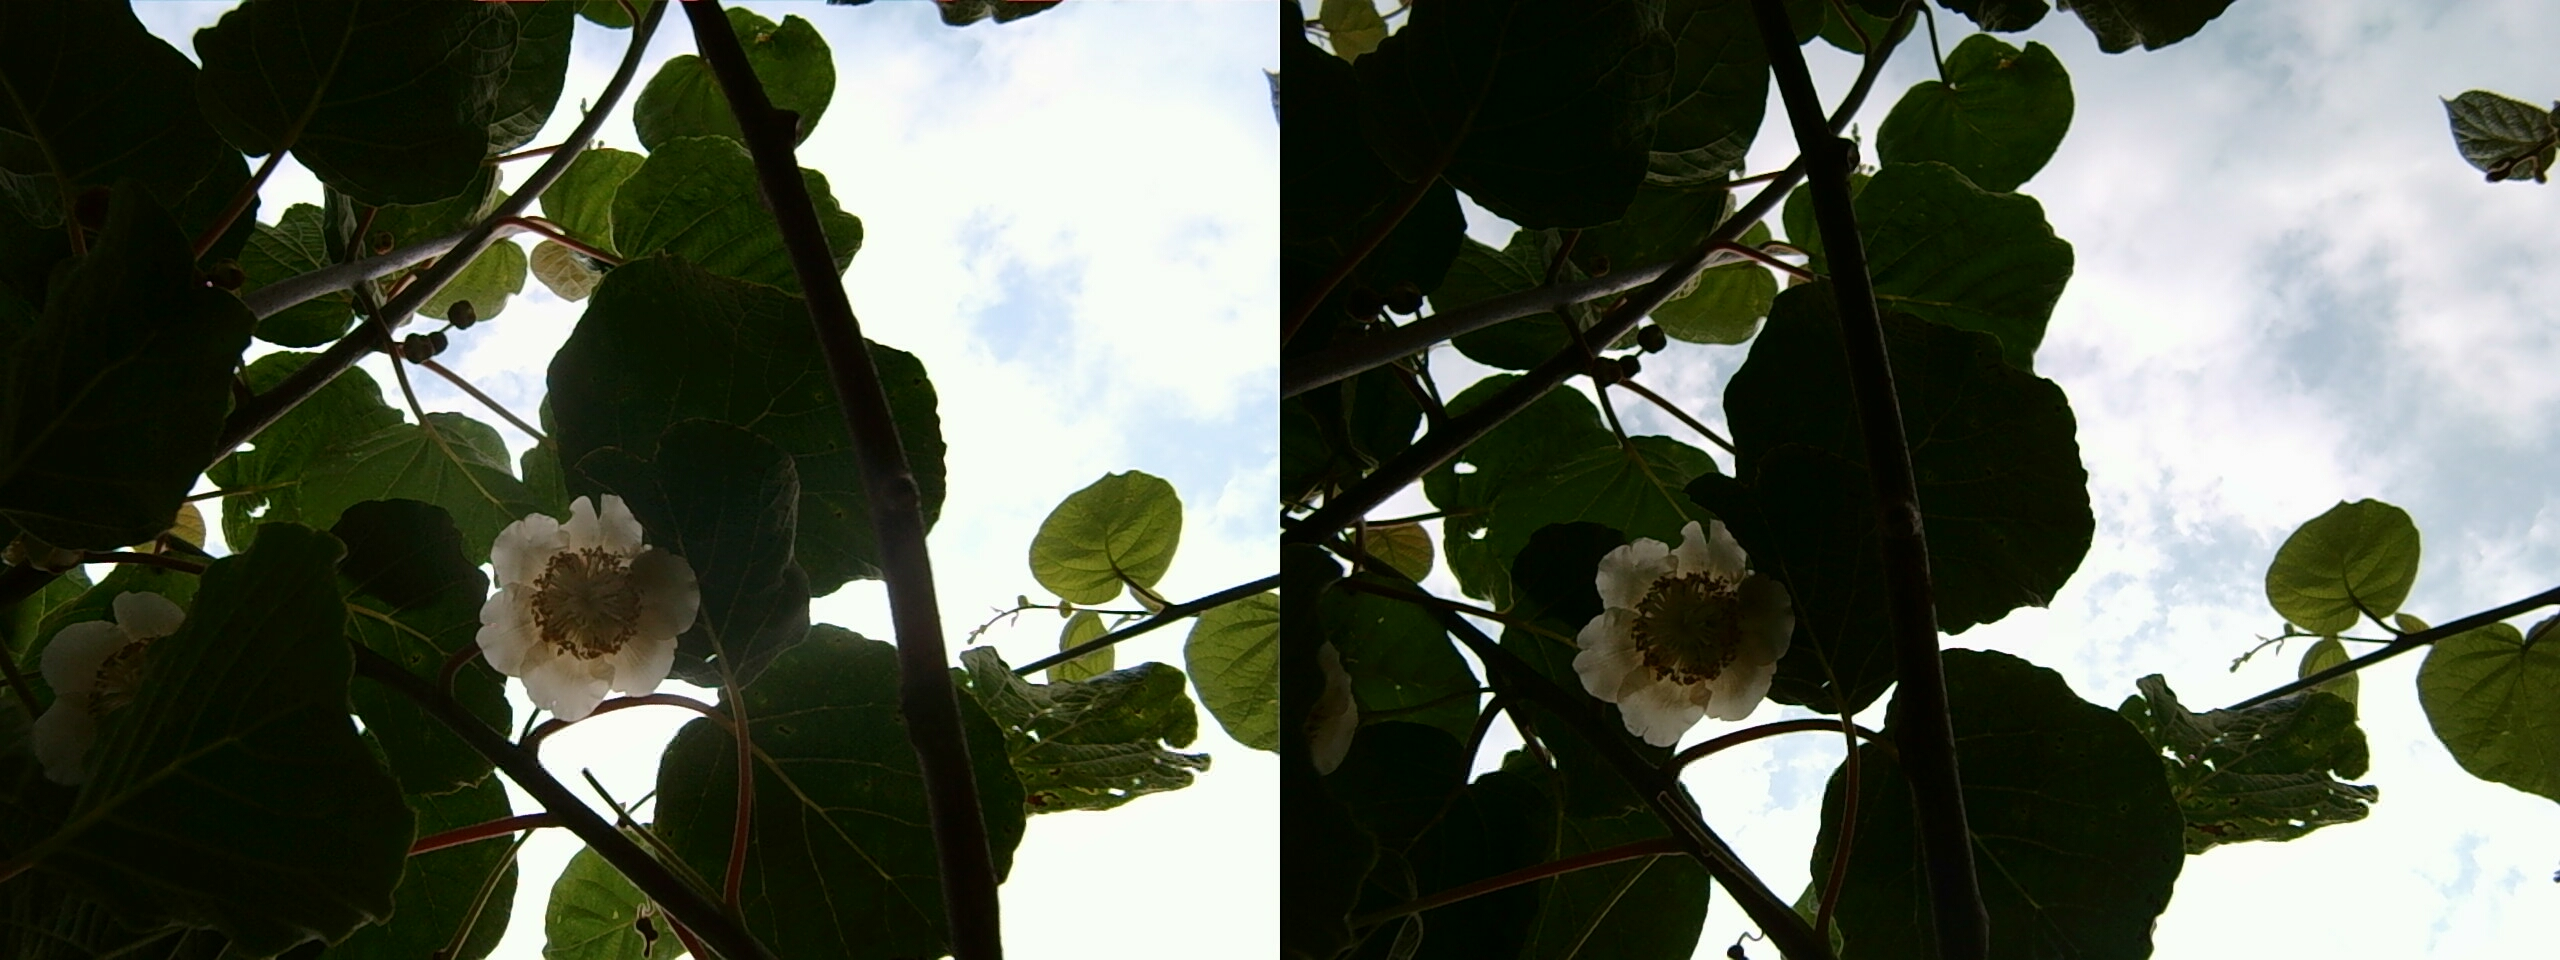flower: (470, 487, 699, 713), (1569, 509, 1788, 731)
